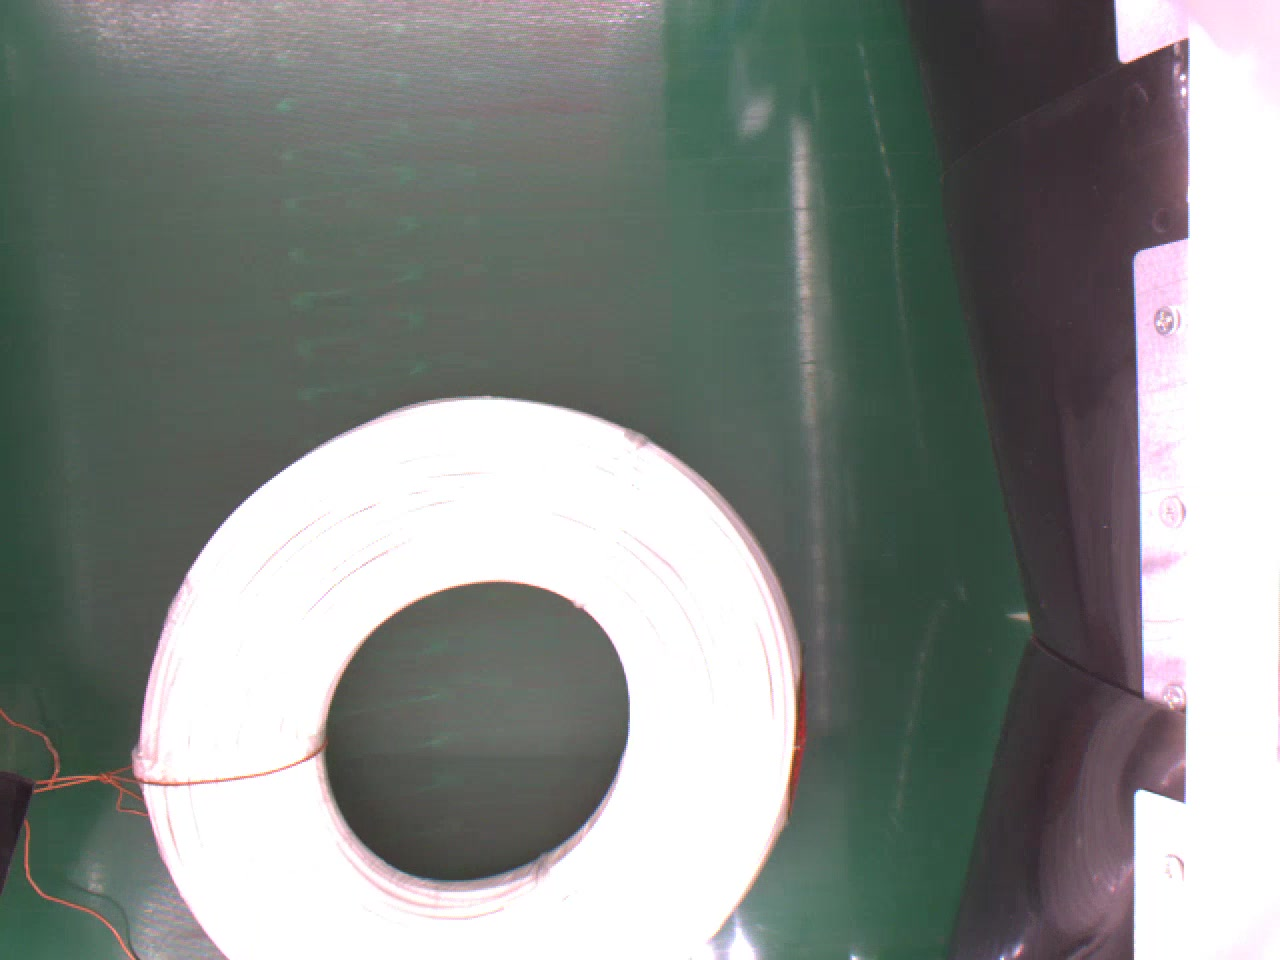white: (128, 394, 804, 960)
